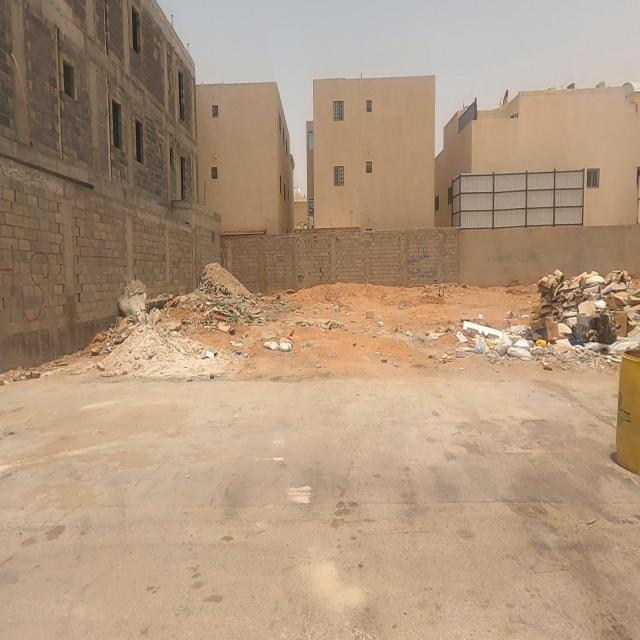debris: (483, 216, 640, 428), (394, 274, 578, 406), (82, 266, 206, 384), (234, 304, 332, 390), (172, 268, 264, 348), (180, 322, 248, 392)
